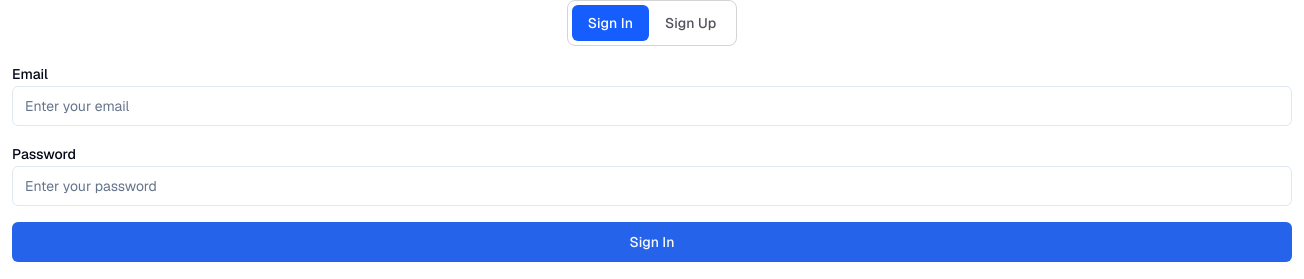
Test case: EmailPasswordForm Component (RED PHASE) › Loading States › should show loading state during signin
Type "test@example.com" into the field labelled "Email". click: (652, 106)
box: [12,86,1292,126]
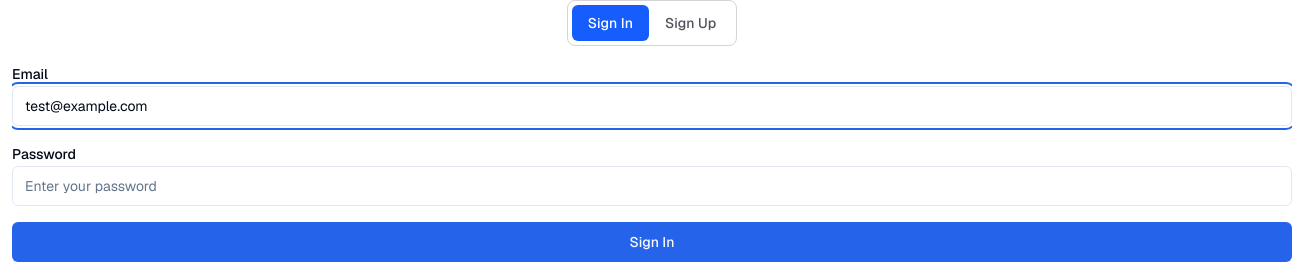
Type "password123" into the password field labelled "Password". click: (652, 186)
box: [12,166,1292,206]
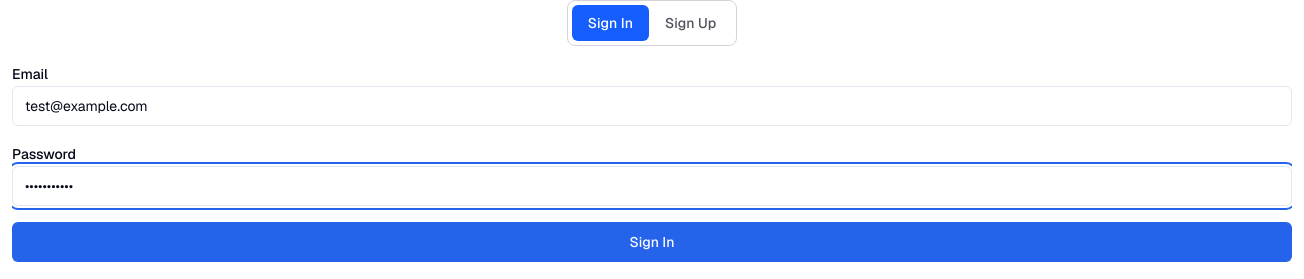
Click the button "Sign In" below "Password". click: (652, 242)
box: [12,222,1292,262]
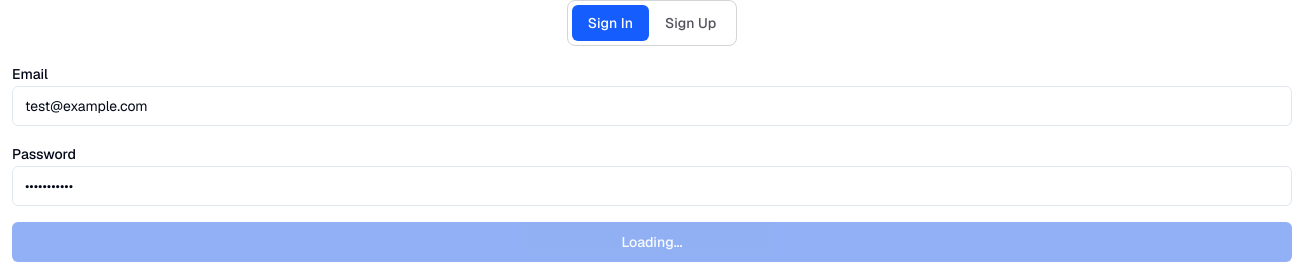
Expected: the button "Loading..." is disabled, [12,222,1292,262]
